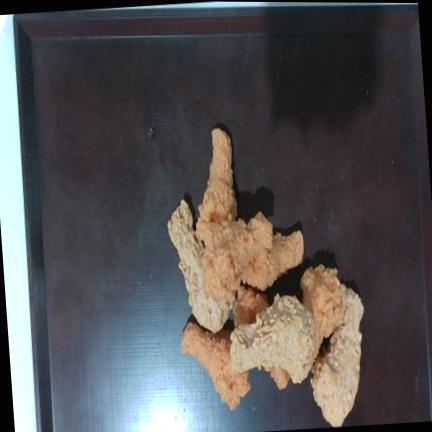chicken: (167, 199, 231, 332), (310, 284, 363, 426), (230, 294, 314, 382), (199, 212, 272, 299), (181, 322, 250, 409), (196, 128, 236, 237), (300, 264, 343, 358), (240, 230, 303, 289)
